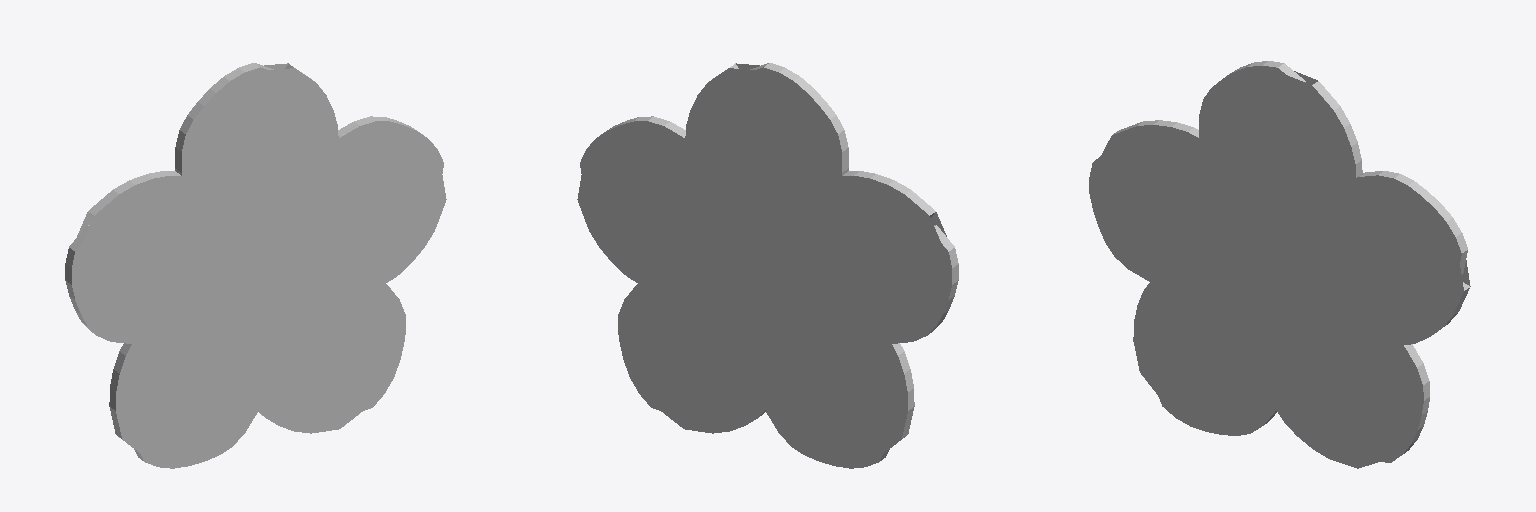
File: Sakura Cherry.obj
The picture shows the model from 3 angles: view 1: azimuth 30°, elevation 25°; view 2: azimuth 150°, elevation 25°; view 3: azimuth 330°, elevation 25°; orthographic projection.
Parts seen in each view (by area): view 1: Sakura.001; view 2: Sakura.001; view 3: Sakura.001.
Boxes of the visible parts, box(x1,y1,x2,y2) form: Sakura.001: box(65, 63, 446, 468); Sakura.001: box(577, 63, 958, 468); Sakura.001: box(1089, 61, 1470, 468).
Bounding box in the file's own units: 3.06 × 2.98 × 0.0906.